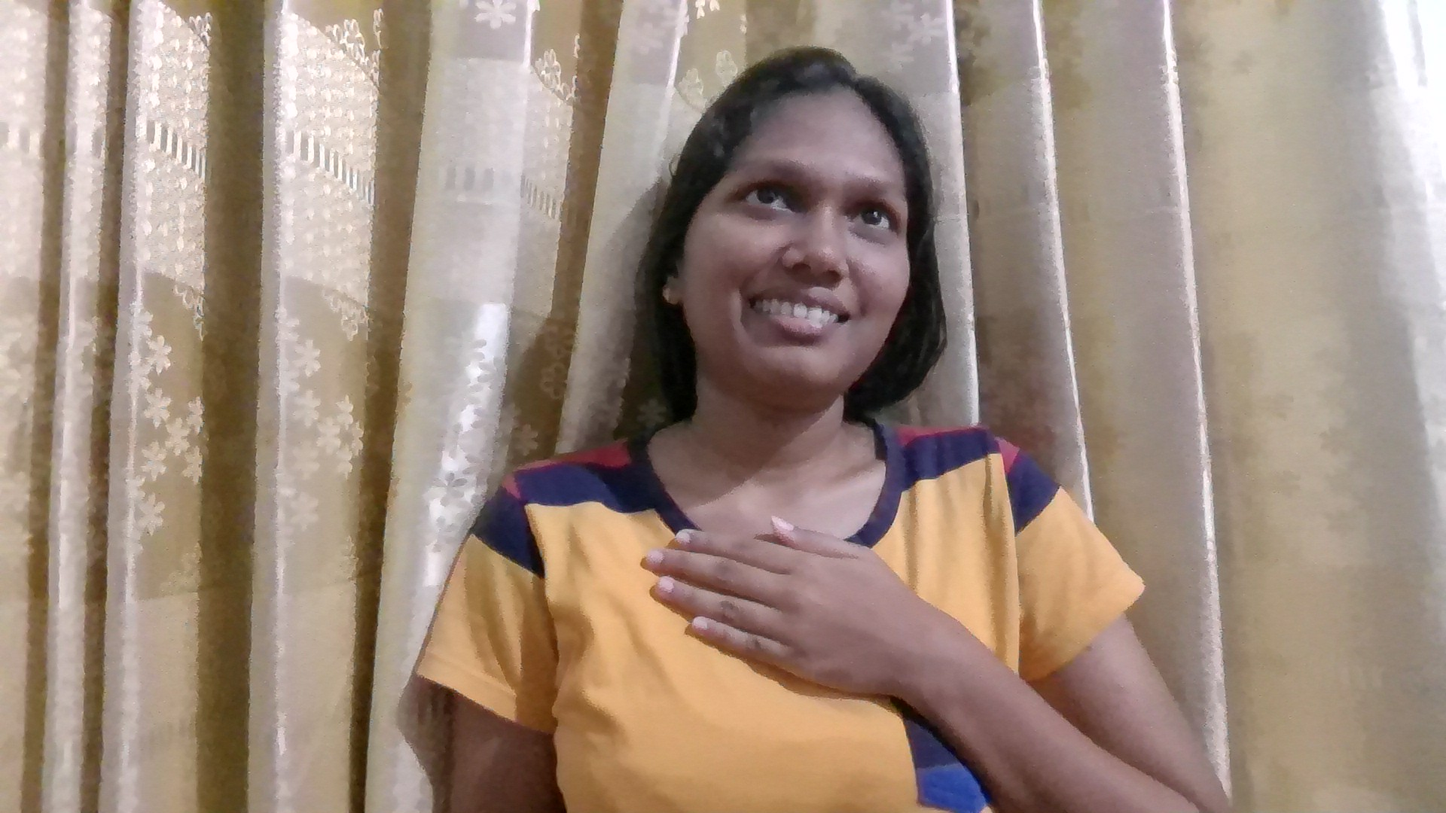Please: (591, 481, 964, 740)
